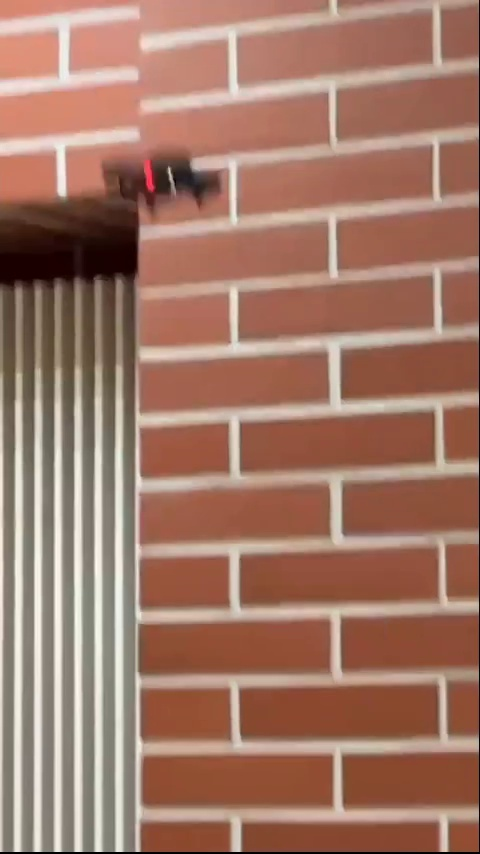drone: (96, 147, 227, 214)
